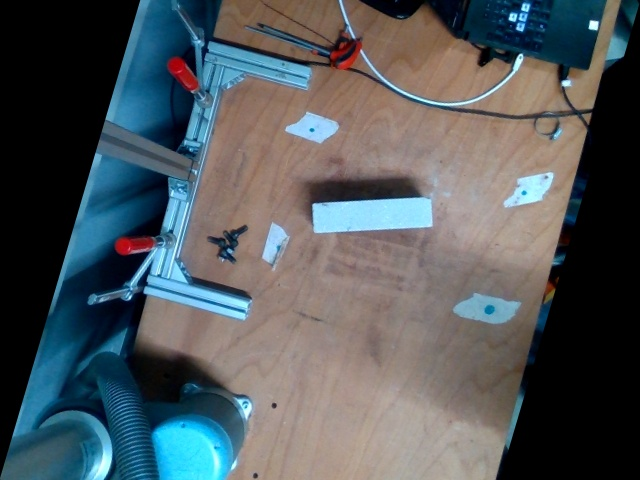brick-side: (312, 198, 431, 232)
